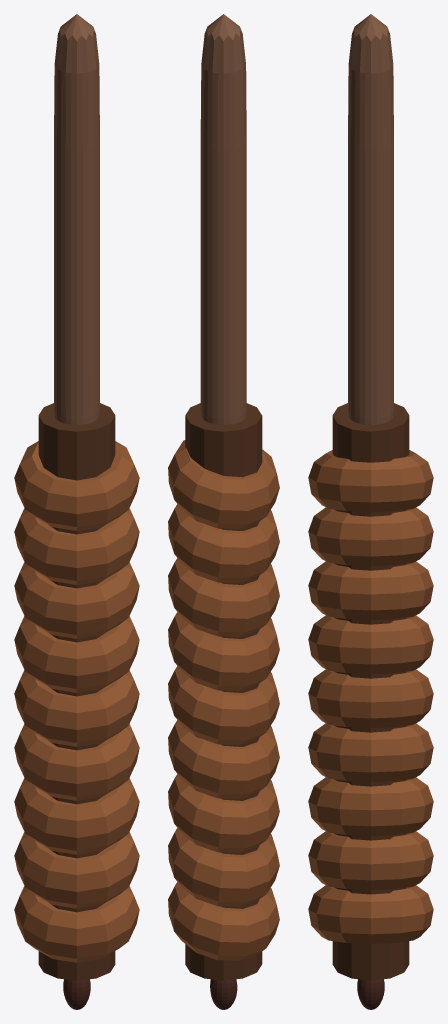
File: Wand 416.glb
3 views of the same model, side by side, from view 1: azimuth 90°, elevation 25°; view 2: azimuth 150°, elevation 25°; view 3: azimuth 270°, elevation 25° (orthographic).
Visible parts, largest first — view 1: GeneratedWand; view 2: GeneratedWand; view 3: GeneratedWand.
Part boxes in pixels (x1,y1,x2,y2): GeneratedWand: (14, 14, 139, 1009); GeneratedWand: (168, 14, 279, 1009); GeneratedWand: (308, 14, 433, 1009).
Size of the model in its own units: 0.0497 by 0.5088 by 0.0581.
